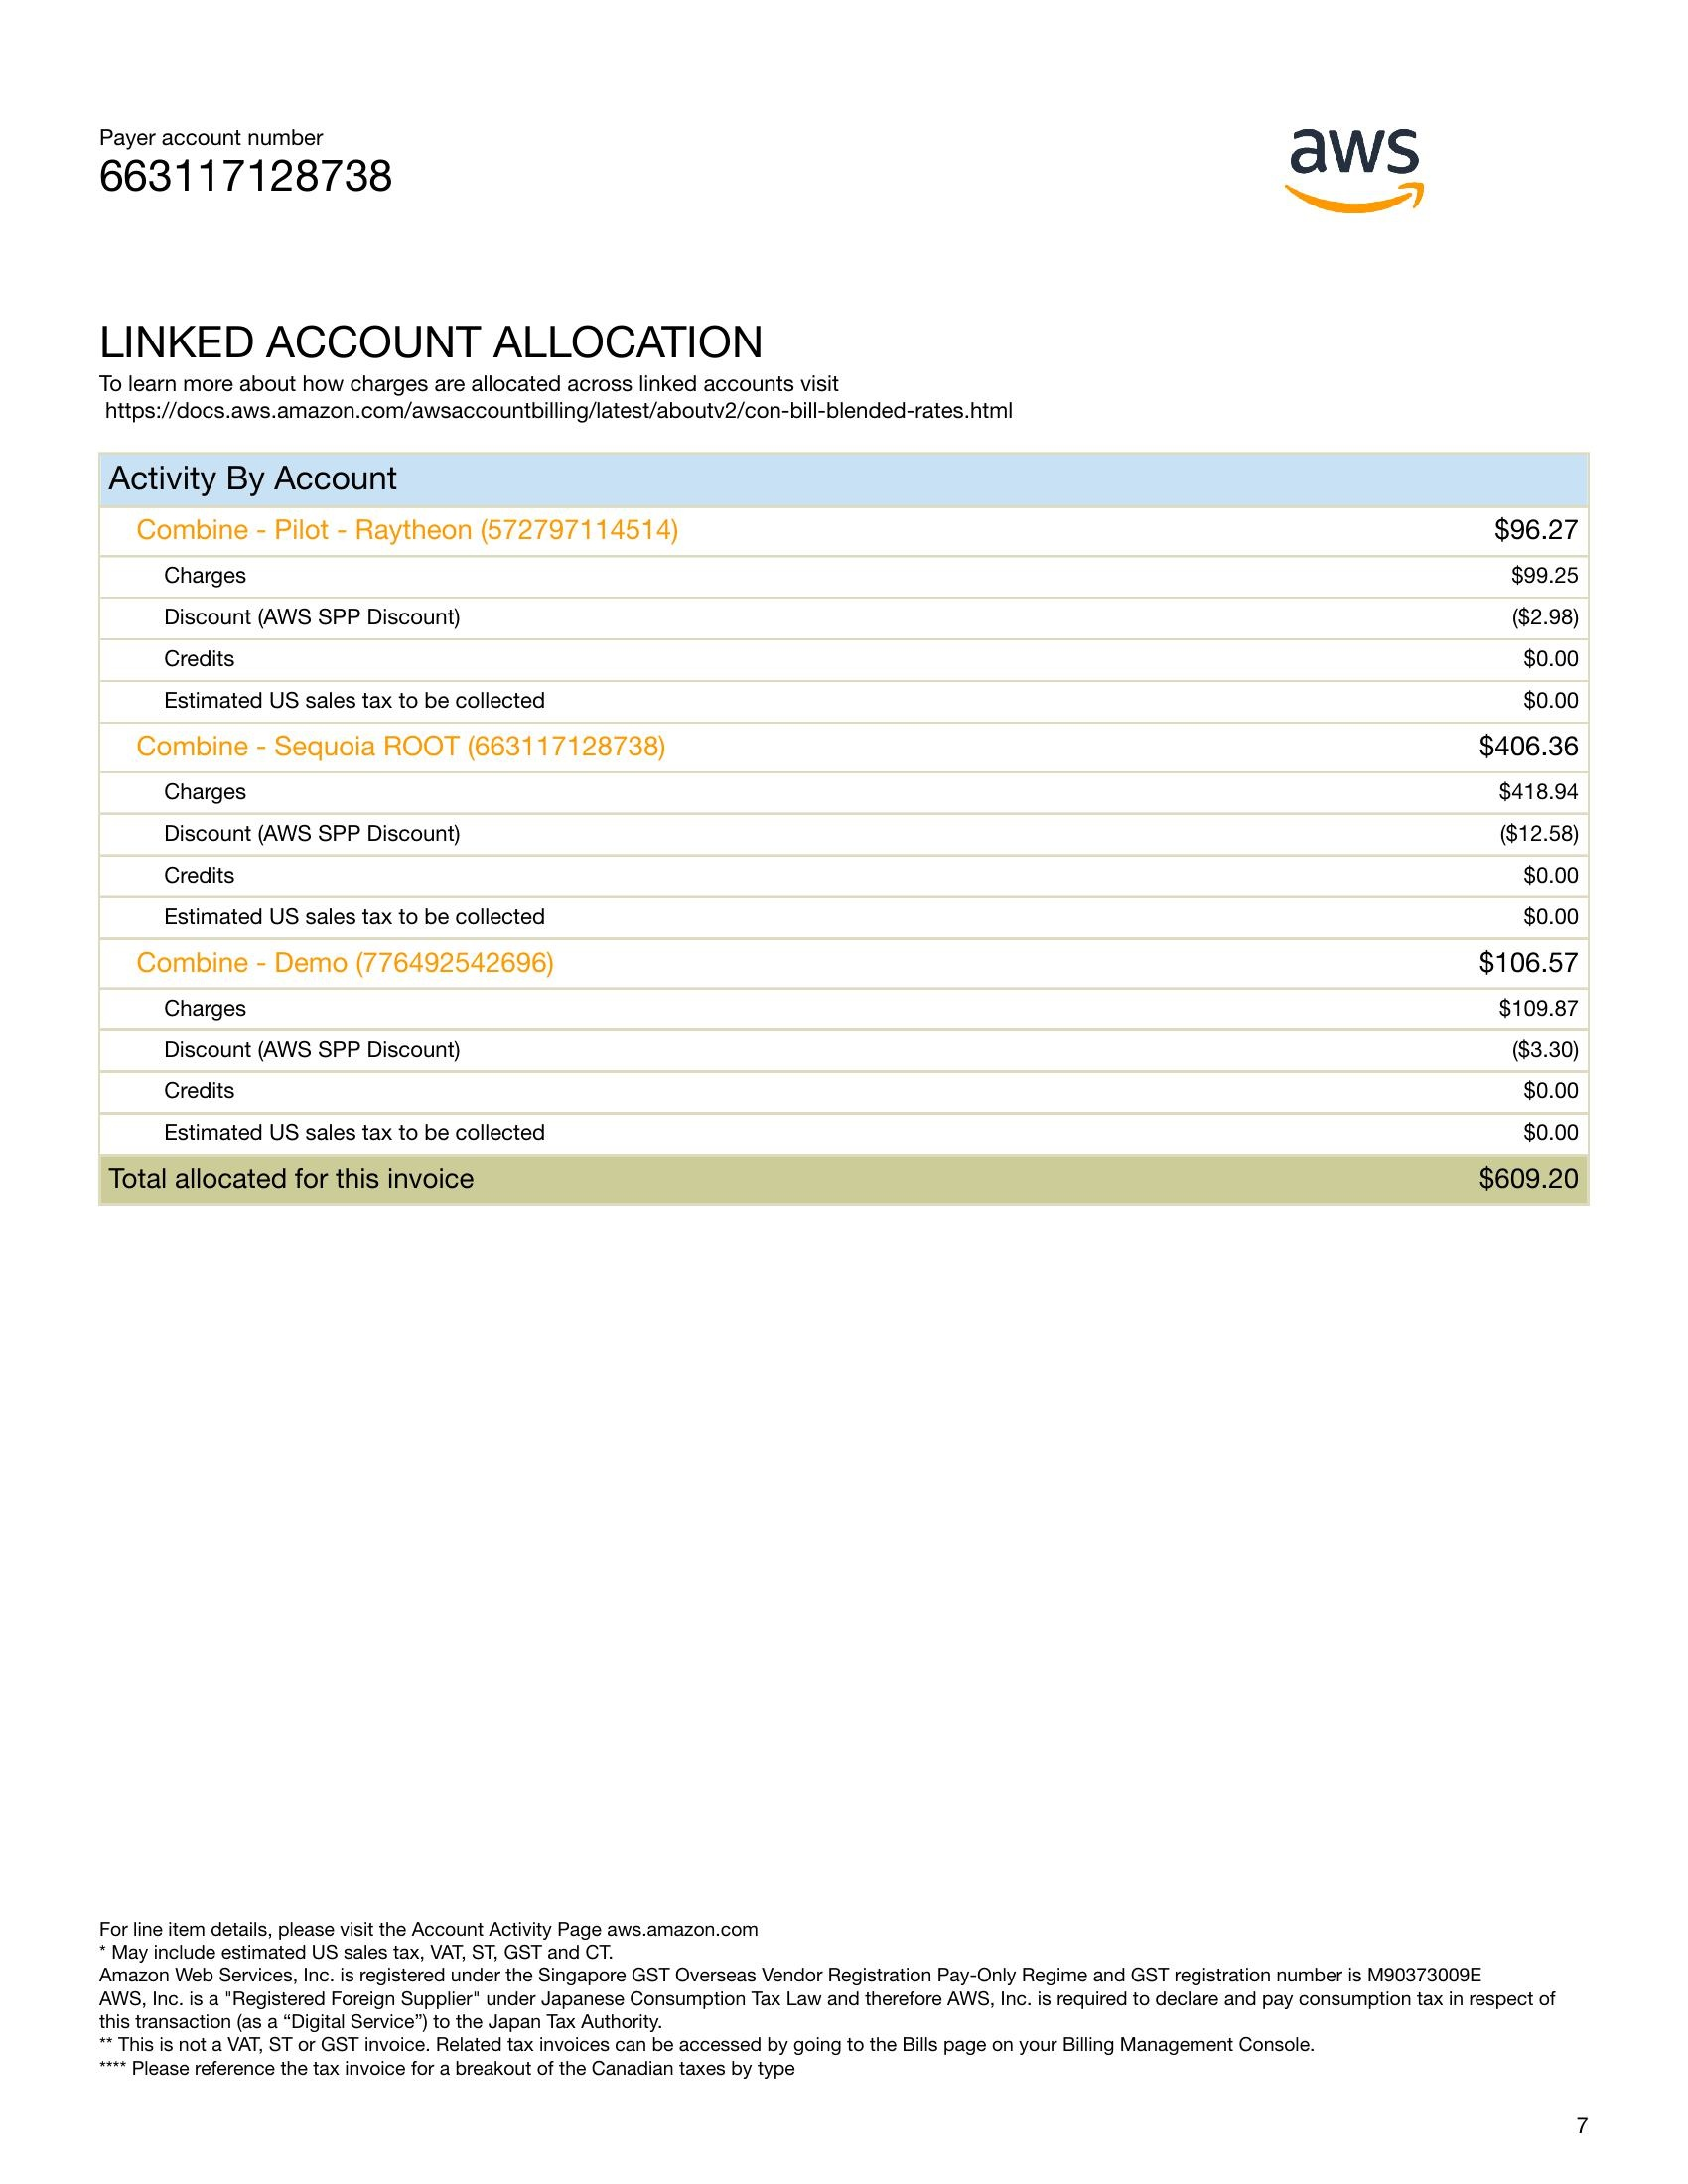table: (99, 457, 1598, 1214)
